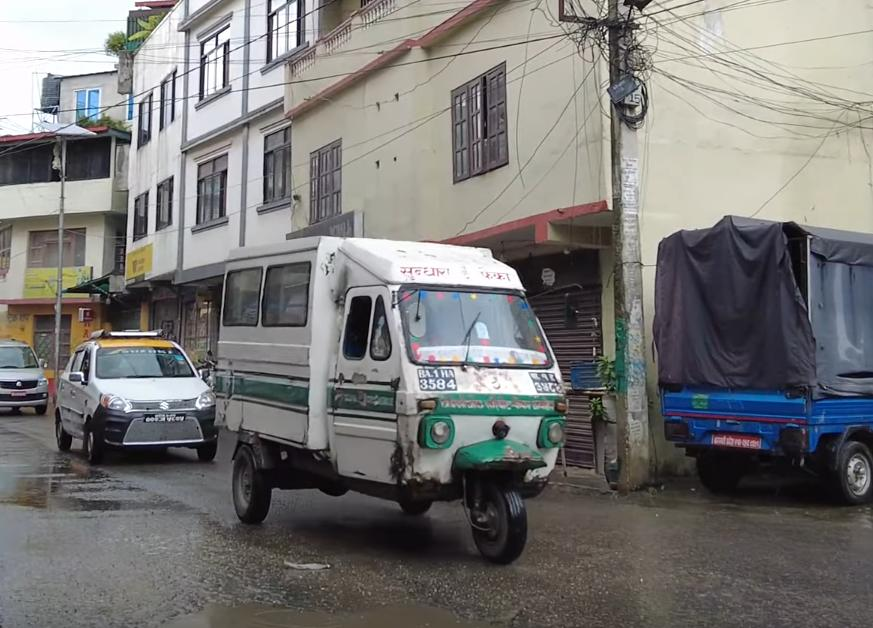car: (0, 332, 55, 425)
taxi: (49, 325, 223, 465)
tempo: (200, 225, 583, 567)
